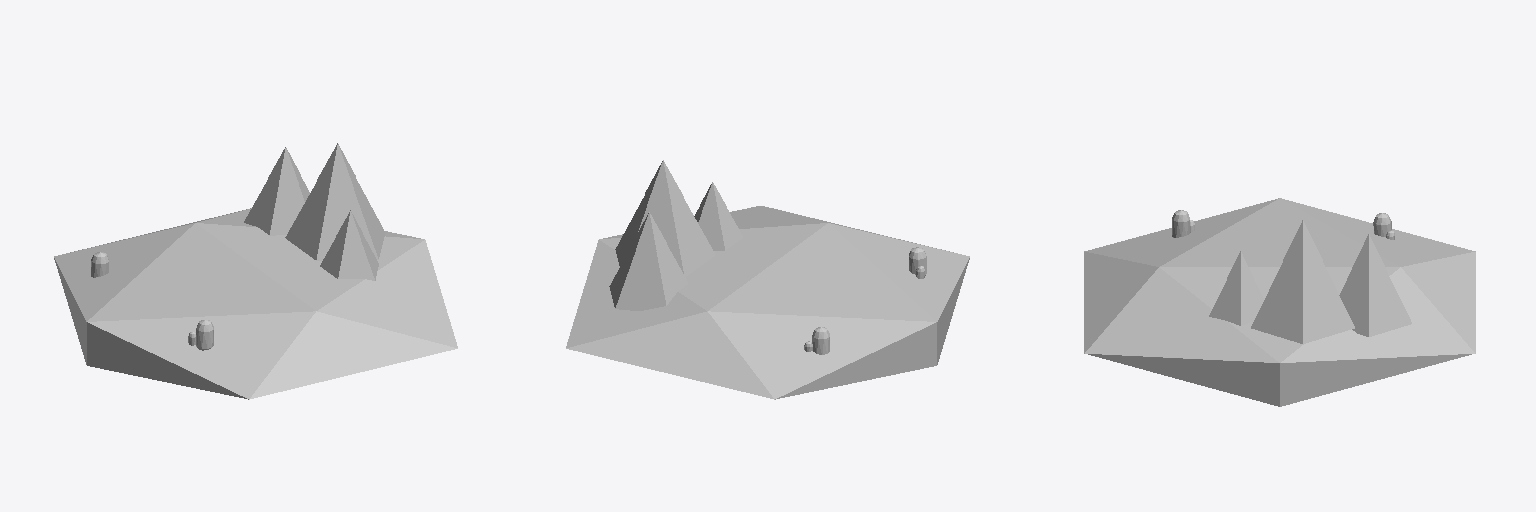
File: lowpoly_terrain.obj
The picture shows the model from 3 angles: view 1: azimuth 30°, elevation 25°; view 2: azimuth 150°, elevation 25°; view 3: azimuth 270°, elevation 25°; orthographic projection.
Visible parts, largest first — view 1: 008_Ground, 003_Mountain, 005_Mountain, 007_Mountain, 002_Mountaintop, 004_Mountaintop, 000_Rocks; view 2: 008_Ground, 005_Mountain, 003_Mountain, 007_Mountain, 002_Mountaintop, 004_Mountaintop; view 3: 008_Ground, 003_Mountain, 005_Mountain, 007_Mountain, 002_Mountaintop, 004_Mountaintop.
Boxes of the visible parts, box(x1,y1,x2,y2) form: 008_Ground: box(54, 208, 457, 399); 003_Mountain: box(285, 179, 385, 260); 005_Mountain: box(244, 177, 309, 235); 007_Mountain: box(320, 235, 378, 280); 002_Mountaintop: box(317, 143, 355, 189); 004_Mountaintop: box(268, 147, 300, 185); 000_Rocks: box(188, 320, 213, 350); 008_Ground: box(566, 206, 969, 399); 005_Mountain: box(609, 242, 688, 310); 003_Mountain: box(615, 196, 715, 276); 007_Mountain: box(694, 205, 742, 250); 002_Mountaintop: box(645, 160, 683, 206); 004_Mountaintop: box(634, 212, 666, 250); 008_Ground: box(1084, 198, 1475, 406); 003_Mountain: box(1251, 262, 1354, 343); 005_Mountain: box(1339, 268, 1411, 336); 007_Mountain: box(1209, 279, 1263, 325); 002_Mountaintop: box(1283, 220, 1322, 266); 004_Mountaintop: box(1352, 234, 1385, 272).
Bounding box in the file's own units: 432 × 200 × 432.